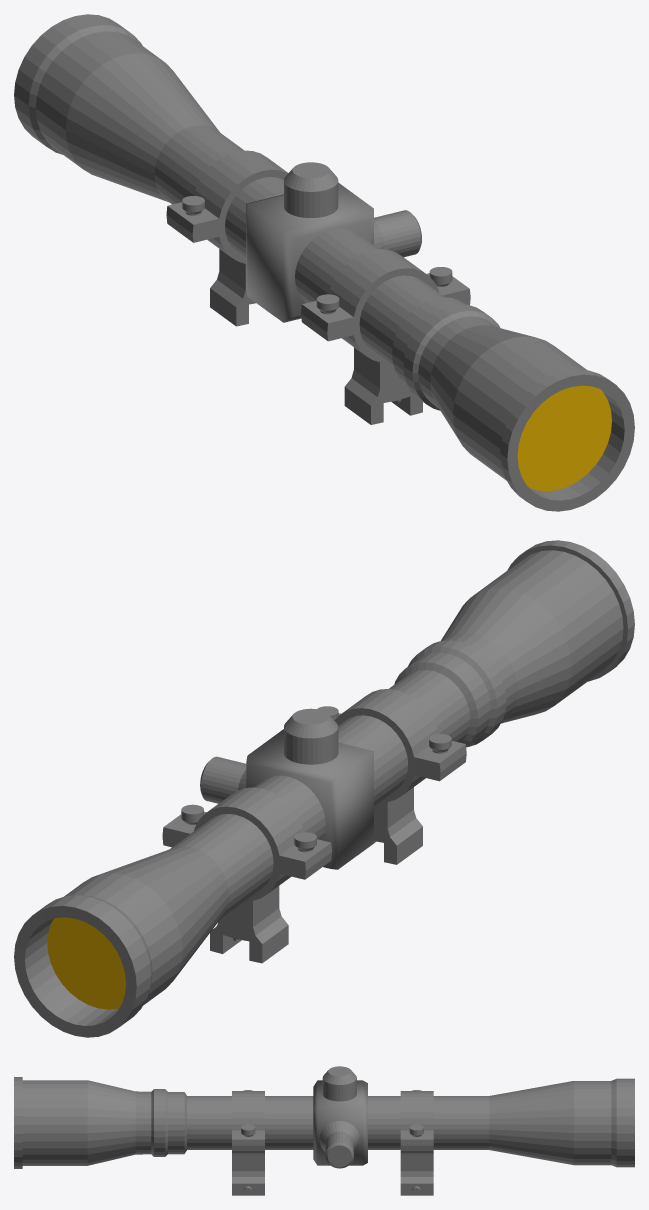
File: lunette.fbx
The picture shows the model from 3 angles, top to bottom: view 1: azimuth 30°, elevation 25°; view 2: azimuth 150°, elevation 25°; view 3: azimuth 270°, elevation 25°; orthographic projection. The views are drawn at different scales.
Parts seen in each view (by area): view 1: Cylinder.002; view 2: Cylinder.002; view 3: Cylinder.002.
Boxes of the visible parts, x1=… form: Cylinder.002: x1=14, y1=14, x2=634, y2=511; Cylinder.002: x1=14, y1=540, x2=634, y2=1037; Cylinder.002: x1=14, y1=1066, x2=634, y2=1195.
Size of the model in its own units: 0.5388 by 0.5596 by 2.7.
